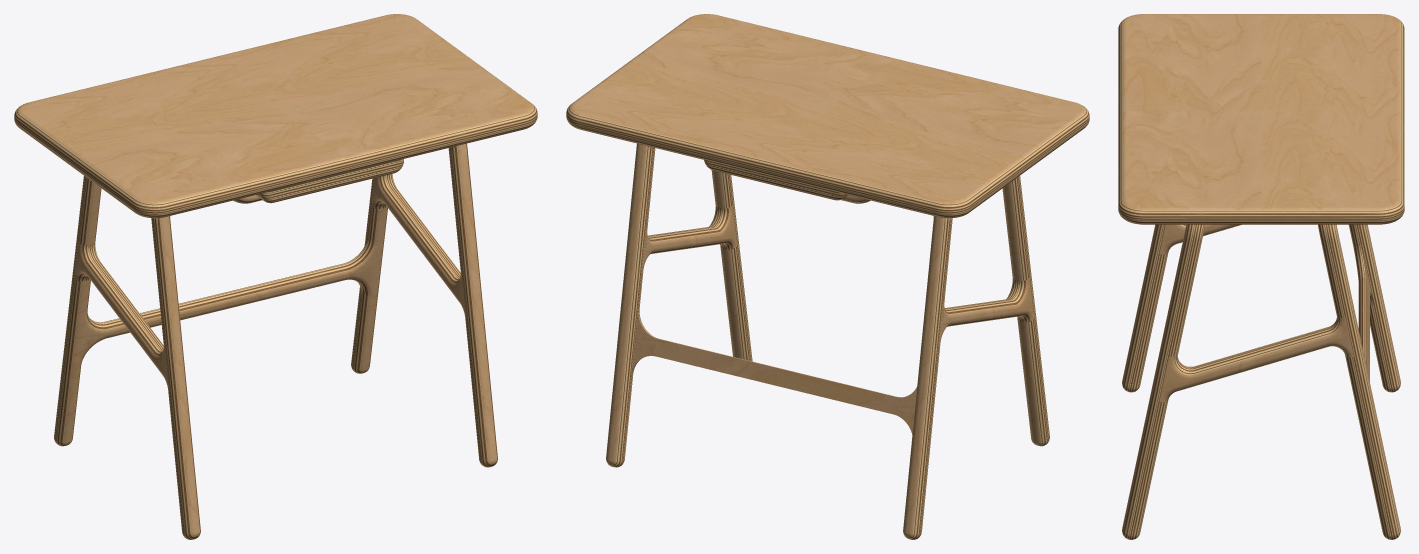
The model's file is desk-36.glb.
3 views of the same model, side by side, from view 1: azimuth 30°, elevation 25°; view 2: azimuth 150°, elevation 25°; view 3: azimuth 270°, elevation 25° (orthographic).
Visible parts, largest first — view 1: Desk 36; view 2: Desk 36; view 3: Desk 36.
Part boxes in pixels (x1,y1,x2,y2): Desk 36: (14,14,537,539); Desk 36: (566,14,1089,539); Desk 36: (1118,14,1404,539).
Bounding box in the file's own units: 0.92 × 0.762 × 0.5588.
2 materials, 2 textured.
